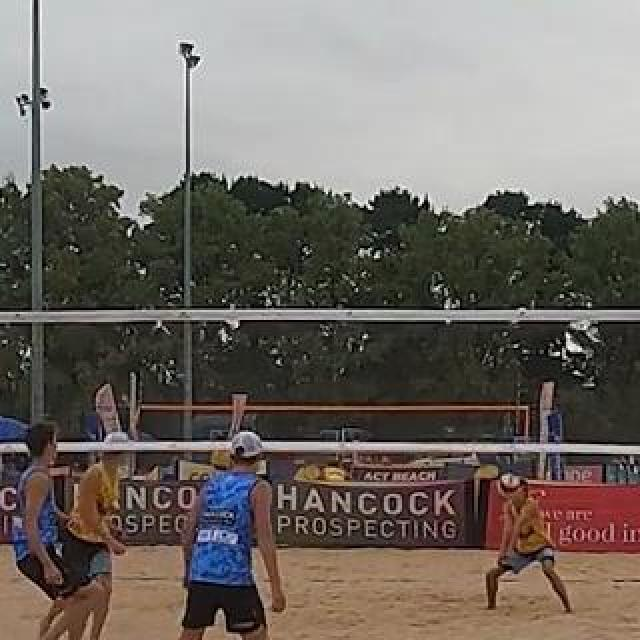volleyball: (497, 472, 521, 498)
